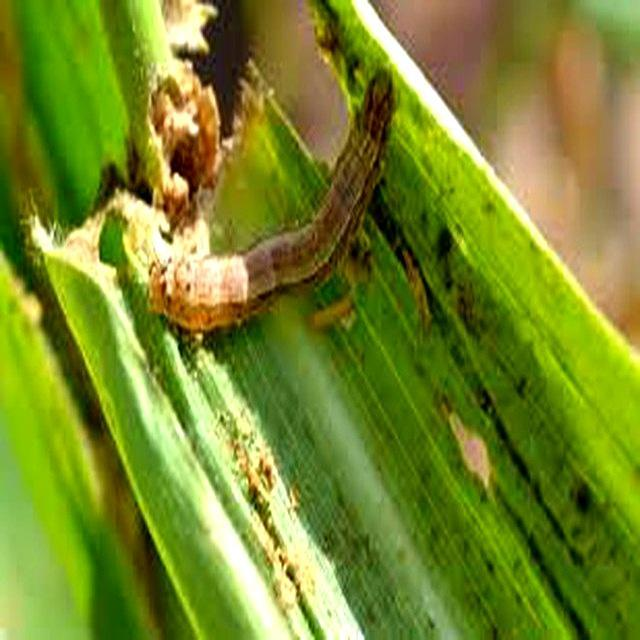Plaga: (144, 66, 402, 346)
